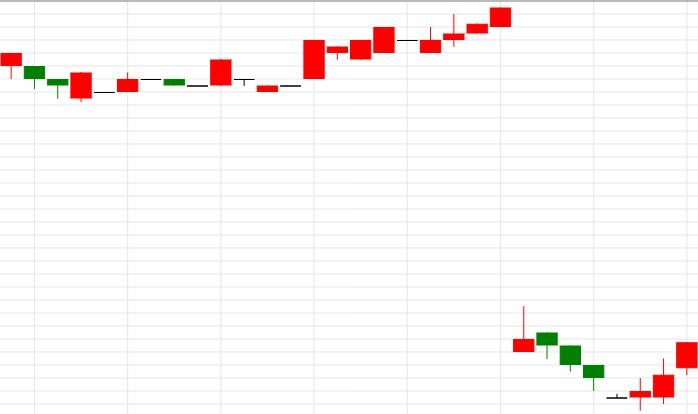bullish_engulfing_rise: (0, 52, 93, 102)
